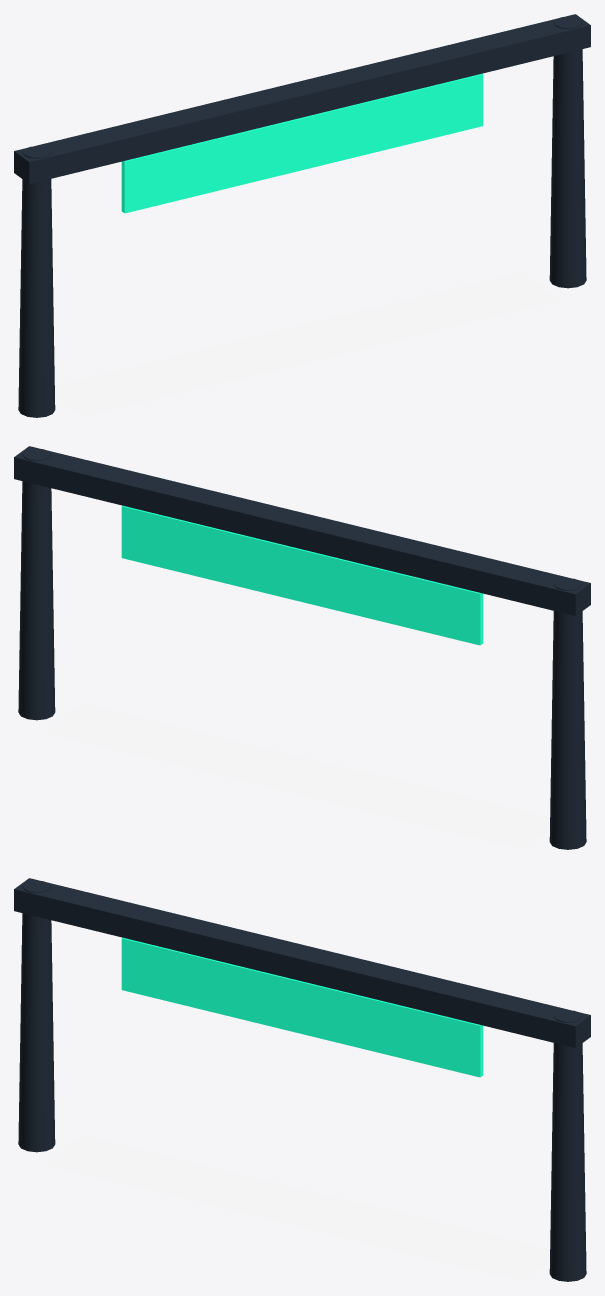
Rendered from finish.glb.
3 renders of one model, top to bottom at view 1: azimuth 30°, elevation 25°; view 2: azimuth 150°, elevation 25°; view 3: azimuth 330°, elevation 25°, orthographic.
Visible parts, largest first — view 1: finish-arch; view 2: finish-arch; view 3: finish-arch.
Part boxes in pixels (x1,y1,x2,y2): finish-arch: [14, 14, 590, 417]; finish-arch: [14, 446, 590, 849]; finish-arch: [14, 878, 590, 1281].
Bounding box in the file's own units: 14.84 × 6.5 × 1.8.
